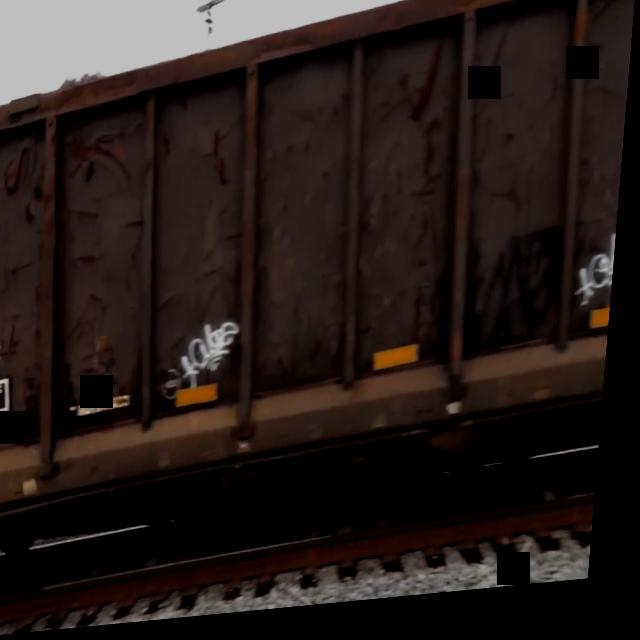gondola: (0, 0, 640, 606)
